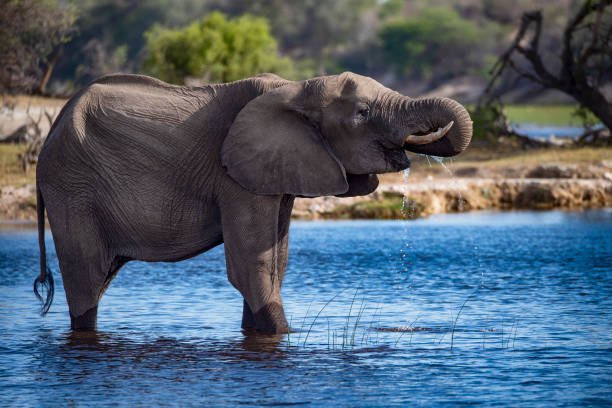africanelephant: (306, 80, 466, 174)
